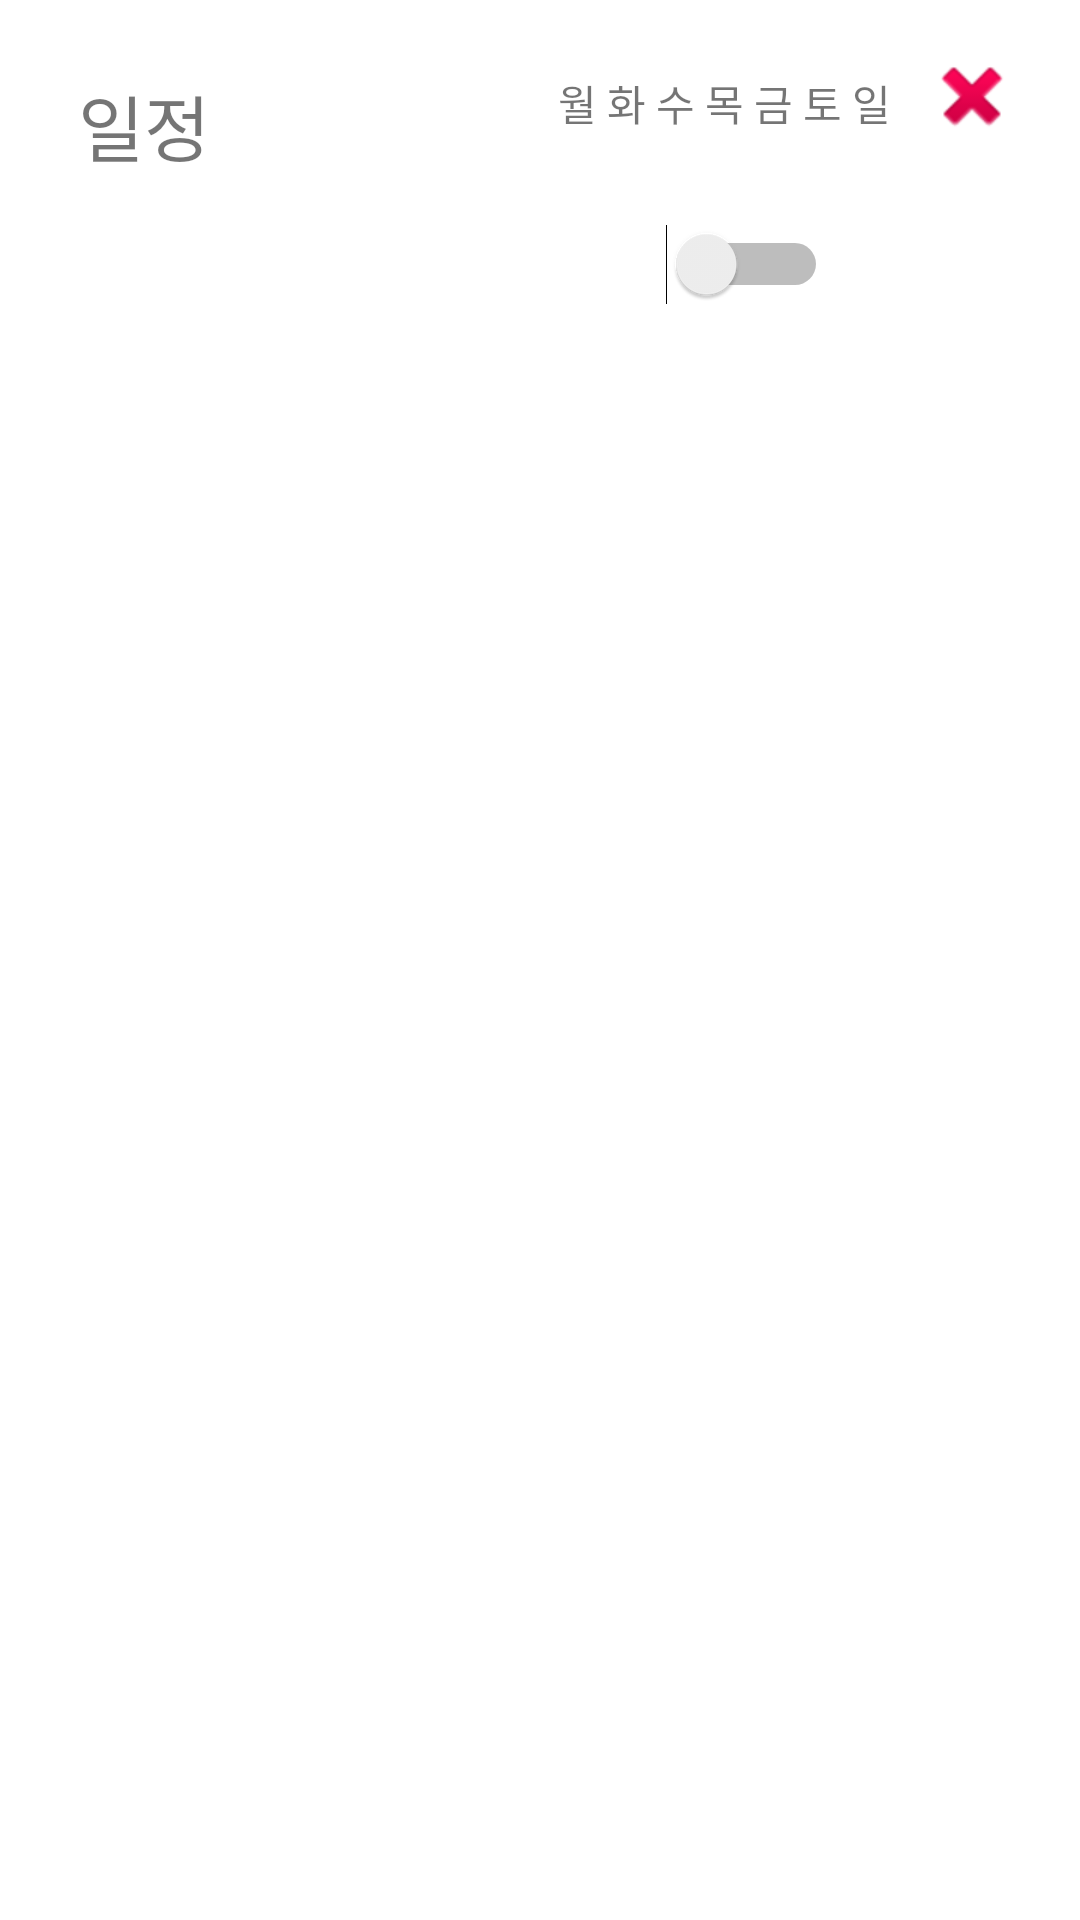

Point at icon controls on the screen. Image size 1080×1920, points as (x=x, y=y).
delete: (x=972, y=96)
